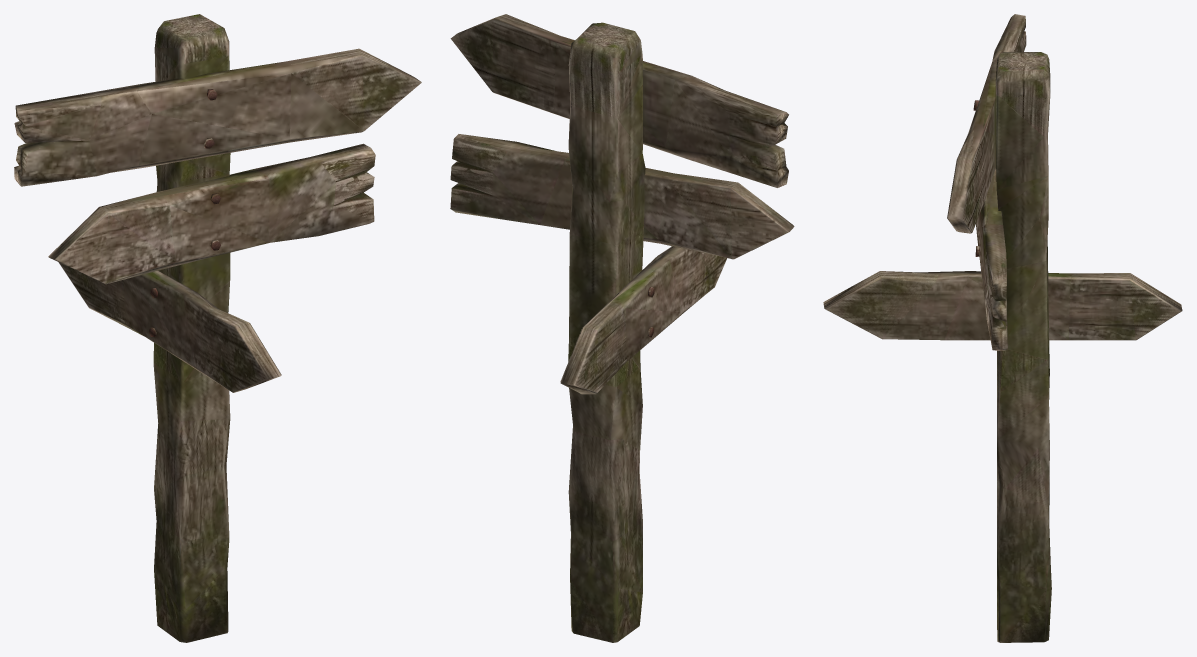
The model's file is signpost.glb.
3 renders of one model, left to right at view 1: azimuth 30°, elevation 25°; view 2: azimuth 150°, elevation 25°; view 3: azimuth 270°, elevation 25°, orthographic. The views are drawn at different scales.
Size of the model in its own units: 0.6123 by 0.9521 by 0.5434.
Materials: 1 (1 with a texture image).
